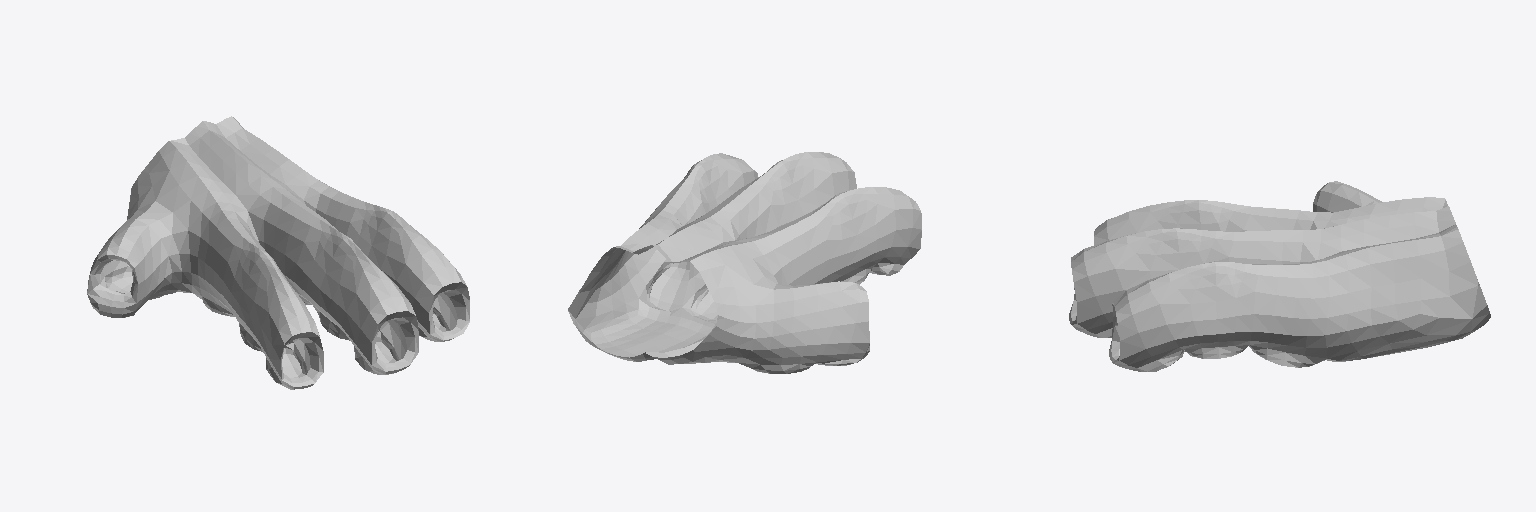
Rendered from pied_avant_gauche.obj.
3 views of the same model, side by side, from view 1: azimuth 30°, elevation 25°; view 2: azimuth 150°, elevation 25°; view 3: azimuth 270°, elevation 25° (orthographic).
Visible parts, largest first — view 1: Cube.001_Cube.006, Cube.006_Cube.005; view 2: Cube.001_Cube.006, Cube.006_Cube.005; view 3: Cube.001_Cube.006, Cube.006_Cube.005.
Part boxes in pixels (bbox=[...]): Cube.001_Cube.006: bbox=[87, 116, 396, 351]; Cube.006_Cube.005: bbox=[204, 182, 469, 389]; Cube.001_Cube.006: bbox=[568, 162, 878, 373]; Cube.006_Cube.005: bbox=[626, 152, 921, 319]; Cube.001_Cube.006: bbox=[1185, 181, 1490, 367]; Cube.006_Cube.005: bbox=[1069, 200, 1323, 371].
Bounding box in the file's own units: 0.7361 × 0.3402 × 0.9933.